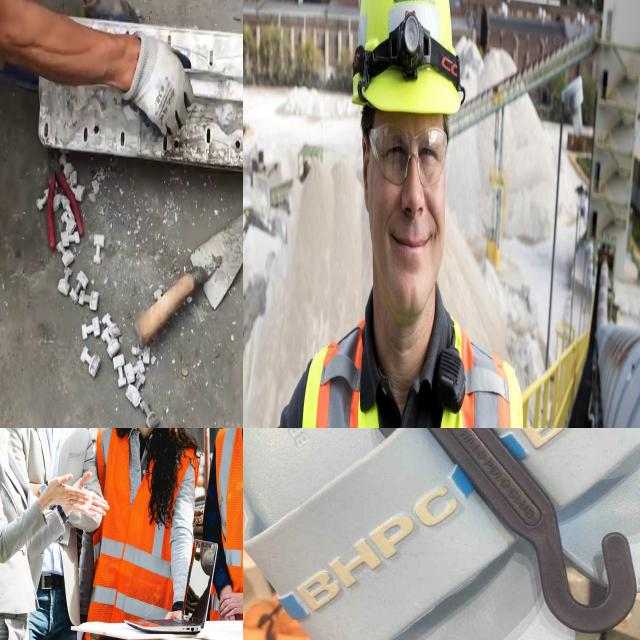Sandals: (243, 428, 640, 640)
face_nomask: (364, 108, 458, 307)
glasses: (365, 113, 452, 190)
hand_glove: (116, 27, 192, 136)
hand_noglove: (74, 464, 114, 532), (40, 470, 90, 520), (226, 581, 243, 622)
head_helmet: (352, 0, 475, 135)
person: (243, 0, 550, 428), (96, 428, 192, 631), (21, 428, 100, 640), (201, 428, 243, 621)
vest: (302, 309, 519, 428), (92, 428, 179, 619), (222, 428, 243, 622)
